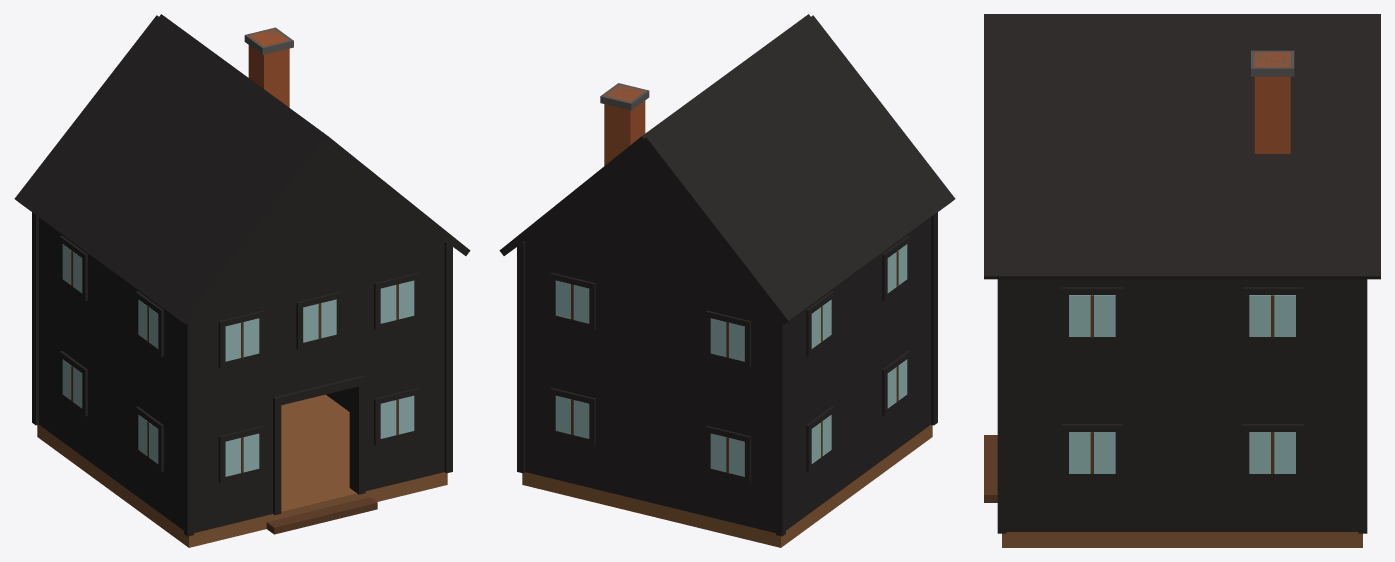
The model's file is HouseTall.fbx.
3 views of the same model, side by side, from view 1: azimuth 30°, elevation 25°; view 2: azimuth 150°, elevation 25°; view 3: azimuth 270°, elevation 25° (orthographic). The views are drawn at different scales.
Parts seen in each view (by area): view 1: Wall, Roof, Trim, Floor, Detail; view 2: Wall, Roof, Trim, Detail, Floor; view 3: Roof, Wall, Detail, Trim, Floor.
Part boxes in pixels (x1,y1,x2,y2): Wall: (39,146,445,532); Roof: (14,14,470,324); Trim: (32,212,452,536); Floor: (37,394,447,547); Detail: (62,27,414,476); Wall: (524,146,930,532); Roof: (499,14,955,324); Trim: (517,212,937,536); Detail: (555,83,907,476); Floor: (522,425,932,547); Roof: (984,14,1380,279); Wall: (1006,279,1358,531); Detail: (1069,50,1295,473); Trim: (997,279,1367,533); Floor: (984,435,1362,547).
Bounding box in the file's own units: 22 × 28 × 22.
